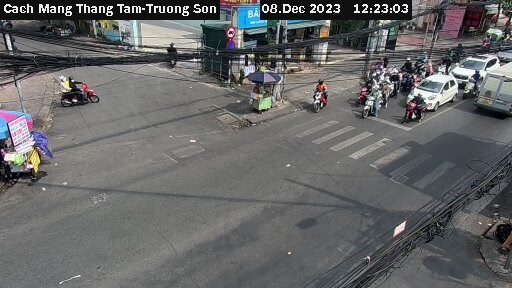car: (409, 74, 461, 111), (477, 63, 512, 114), (453, 50, 493, 83)
motorbike: (50, 75, 102, 116), (305, 82, 336, 118), (362, 92, 393, 127), (401, 95, 432, 129), (462, 71, 485, 97)
